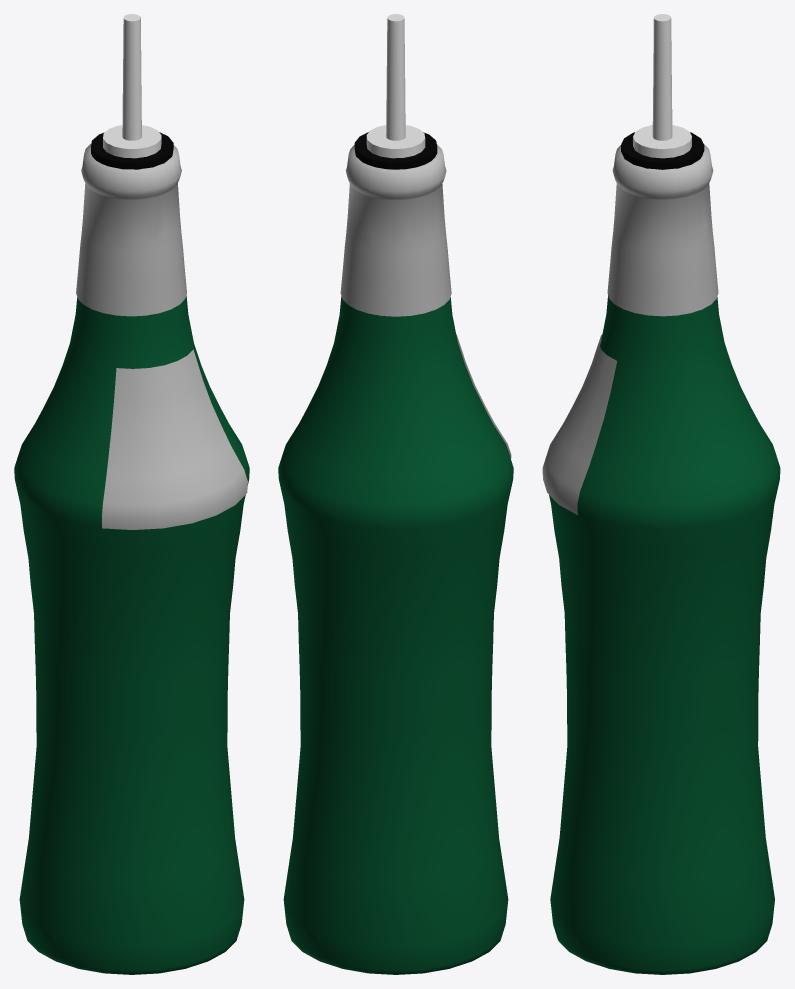
The model's file is Midori.fbx.
3 renders of one model, left to right at view 1: azimuth 30°, elevation 25°; view 2: azimuth 150°, elevation 25°; view 3: azimuth 270°, elevation 25°, orthographic.
Visible parts, largest first — view 1: Midori_Melon_v_bottle_Fernet_Branca_Bottle_Baileys_LAbe_45a0, Midori_Melon__label_Fernet_Branca_Bottle_Baileys_LAbel__e257, Midori_Melon__Head_Chartreuse_Green_Liqueur_BOTTLE_001__bae4, bottle_outside.004; view 2: Midori_Melon_v_bottle_Fernet_Branca_Bottle_Baileys_LAbe_45a0, Midori_Melon__Head_Chartreuse_Green_Liqueur_BOTTLE_001__bae4, bottle_outside.004; view 3: Midori_Melon_v_bottle_Fernet_Branca_Bottle_Baileys_LAbe_45a0, Midori_Melon__Head_Chartreuse_Green_Liqueur_BOTTLE_001__bae4, Midori_Melon__label_Fernet_Branca_Bottle_Baileys_LAbel__e257, bottle_outside.004.
Part boxes in pixels (x1,y1,x2,y2): Midori_Melon_v_bottle_Fernet_Branca_Bottle_Baileys_LAbe_45a0: (14, 156, 249, 974); Midori_Melon__label_Fernet_Branca_Bottle_Baileys_LAbel__e257: (102, 349, 247, 529); Midori_Melon__Head_Chartreuse_Green_Liqueur_BOTTLE_001__bae4: (76, 144, 186, 316); bottle_outside.004: (91, 14, 173, 169); Midori_Melon_v_bottle_Fernet_Branca_Bottle_Baileys_LAbe_45a0: (278, 296, 513, 974); Midori_Melon__Head_Chartreuse_Green_Liqueur_BOTTLE_001__bae4: (340, 144, 451, 316); bottle_outside.004: (354, 14, 437, 169); Midori_Melon_v_bottle_Fernet_Branca_Bottle_Baileys_LAbe_45a0: (549, 154, 780, 974); Midori_Melon__Head_Chartreuse_Green_Liqueur_BOTTLE_001__bae4: (607, 143, 718, 316); Midori_Melon__label_Fernet_Branca_Bottle_Baileys_LAbel__e257: (542, 334, 617, 514); bottle_outside.004: (621, 14, 704, 169).
Bounding box in the file's own units: 8.56 × 36.61 × 8.65.
